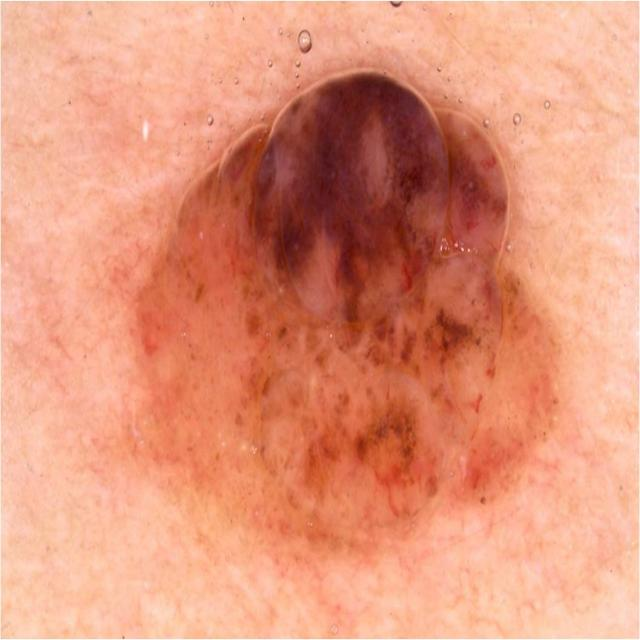Benign: (137, 65, 566, 555)
